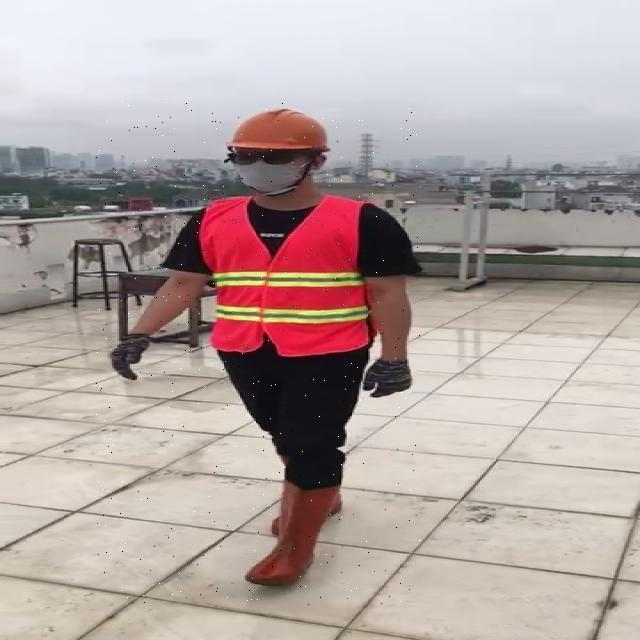helmet: (226, 105, 340, 154)
safety_vest: (200, 196, 372, 356)
